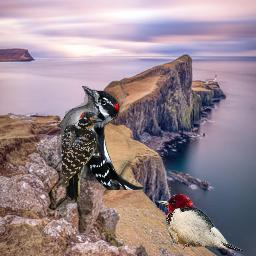Woodpecker: (57, 86, 145, 190), (155, 194, 244, 251), (62, 110, 102, 204)
